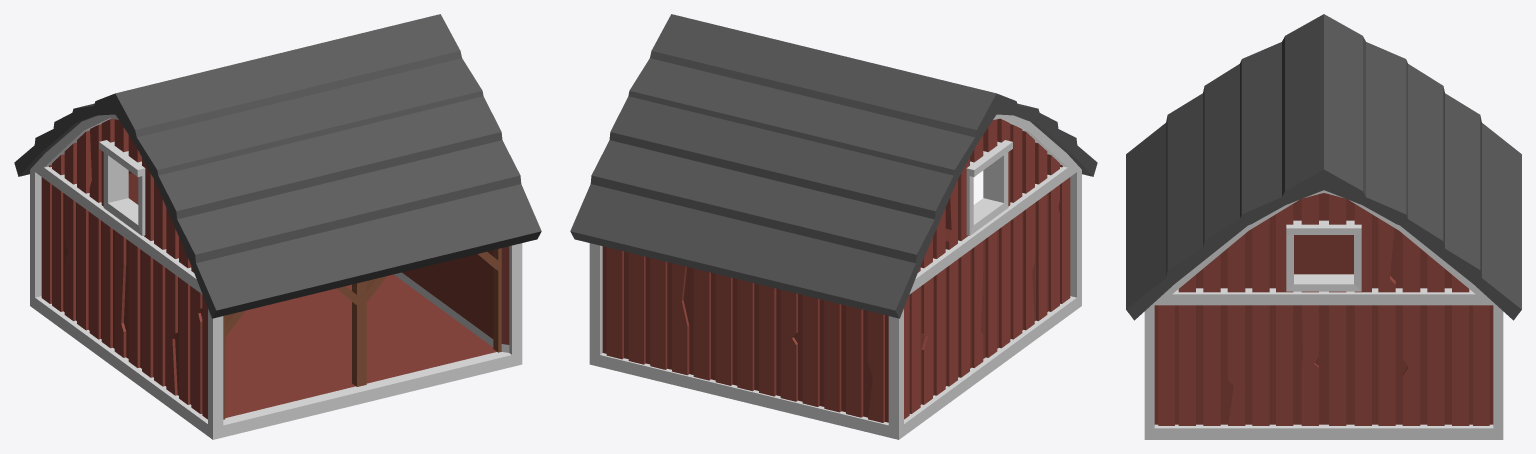
Rendered from OpenBarn.glb.
The picture shows the model from 3 angles, left to right: view 1: azimuth 30°, elevation 25°; view 2: azimuth 150°, elevation 25°; view 3: azimuth 270°, elevation 25°; orthographic projection. The views are drawn at different scales.
Visible parts, largest first — view 1: OpenBarn; view 2: OpenBarn; view 3: OpenBarn.
Part boxes in pixels (bbox=[...]): OpenBarn: bbox=[14, 14, 541, 439]; OpenBarn: bbox=[570, 14, 1097, 439]; OpenBarn: bbox=[1126, 14, 1521, 439].
Size of the model in its own units: 5.45 by 4.5 by 5.86.
